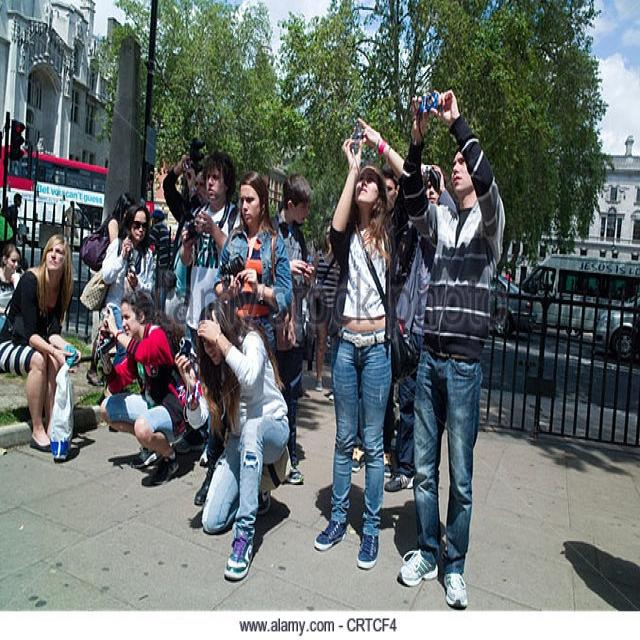body: (392, 85, 508, 611), (312, 116, 407, 571), (173, 294, 292, 584), (383, 161, 459, 495), (172, 148, 245, 469), (92, 288, 196, 491), (0, 234, 82, 463), (348, 165, 406, 481), (212, 170, 295, 354), (270, 174, 317, 485), (80, 189, 136, 389), (100, 204, 155, 369), (161, 152, 207, 329), (309, 221, 342, 393), (0, 240, 23, 333), (147, 208, 172, 270), (0, 190, 24, 232), (59, 198, 77, 225)
